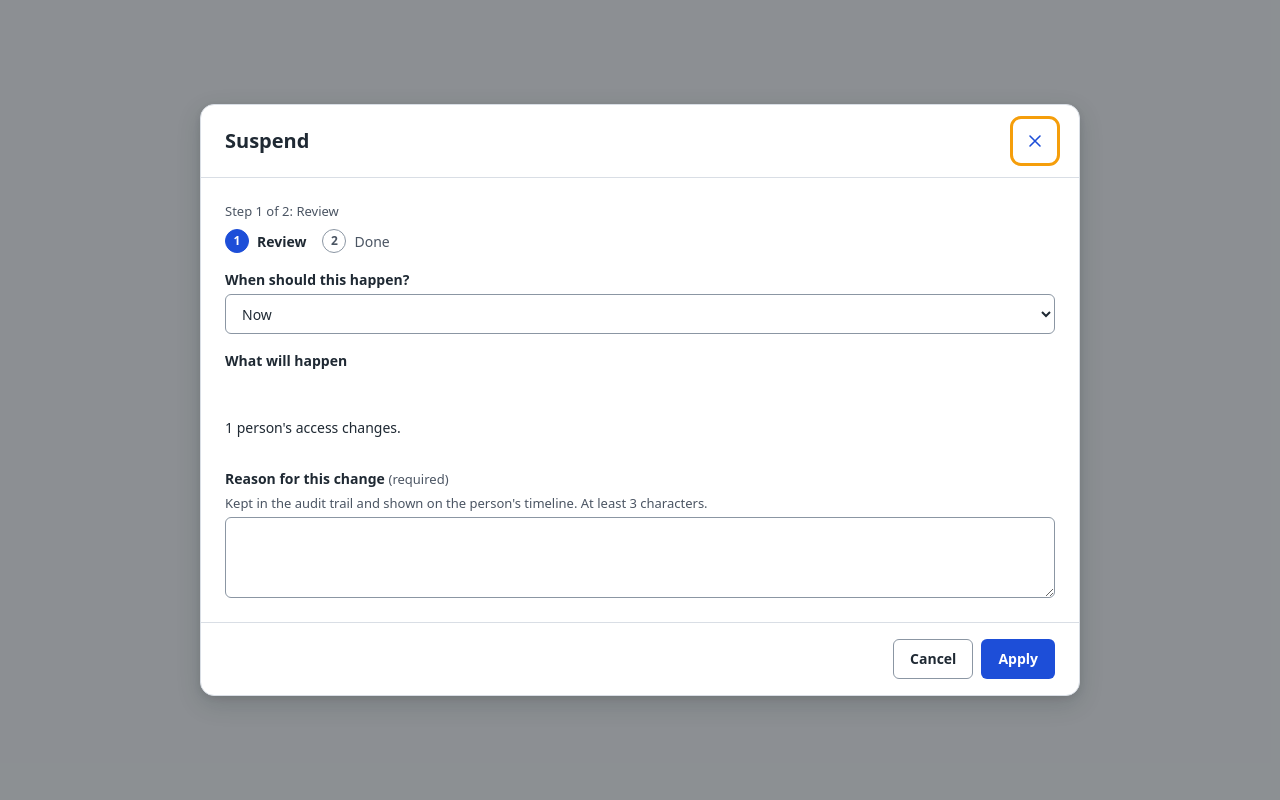
Test: schedules a reviewed change for a later day and says nothing changes until then
Select "At the start of a later day" in the dropdown labelled "When should this happen?" at [640, 314], box [225,294,1055,334]
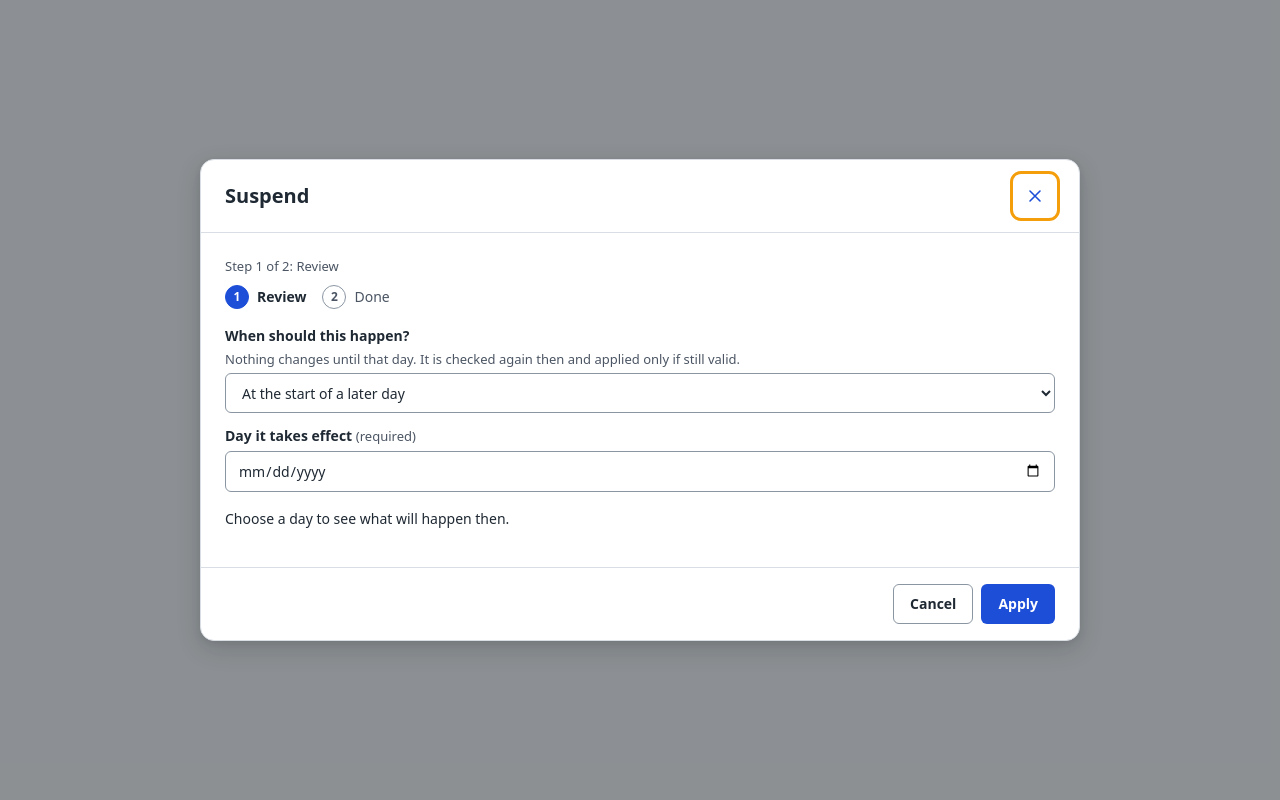
Type "2030-01-07" into the date field labelled "Day it takes effect (required)" at [640, 471], box [225,451,1055,492]
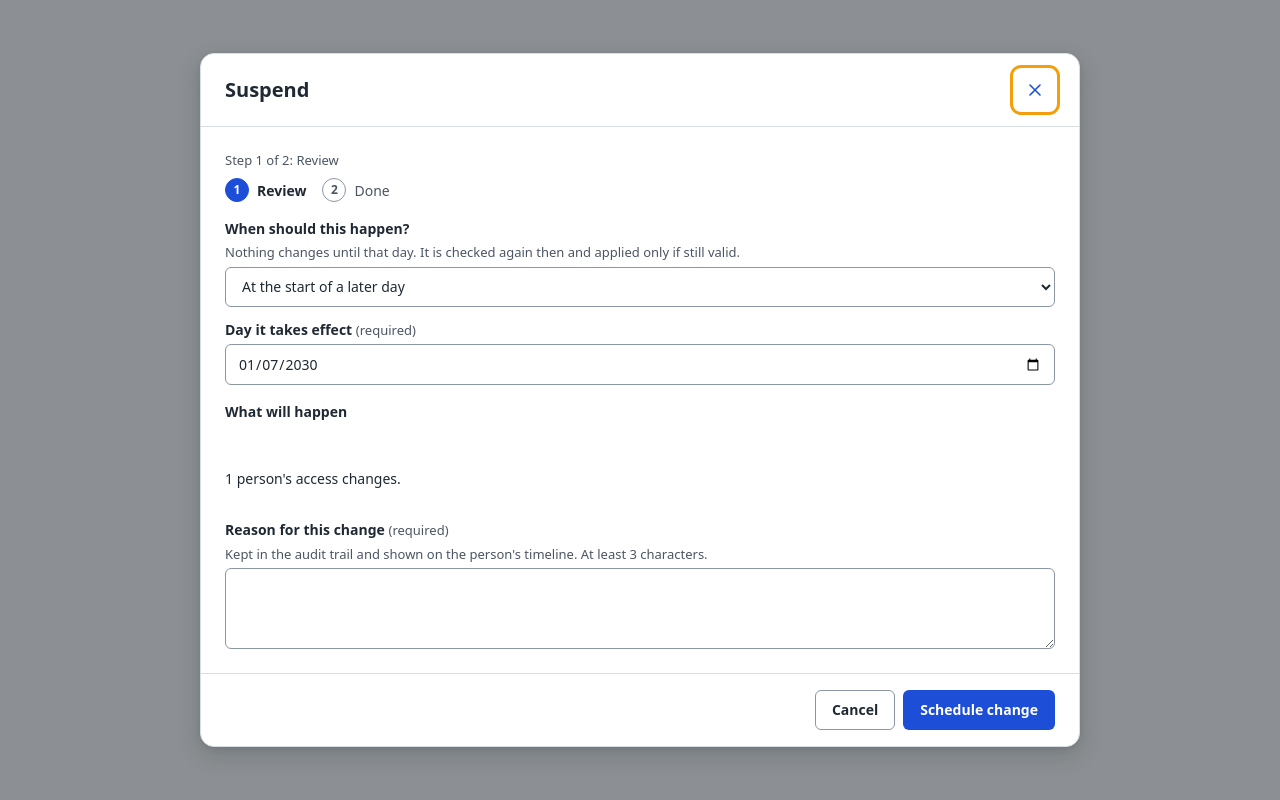
Check: the button "Schedule change" is shown, box [903,690,1055,730]
Type "End of contract" into the text box labelled "Reason for this change (required)" at [640, 609], box [225,568,1055,649]
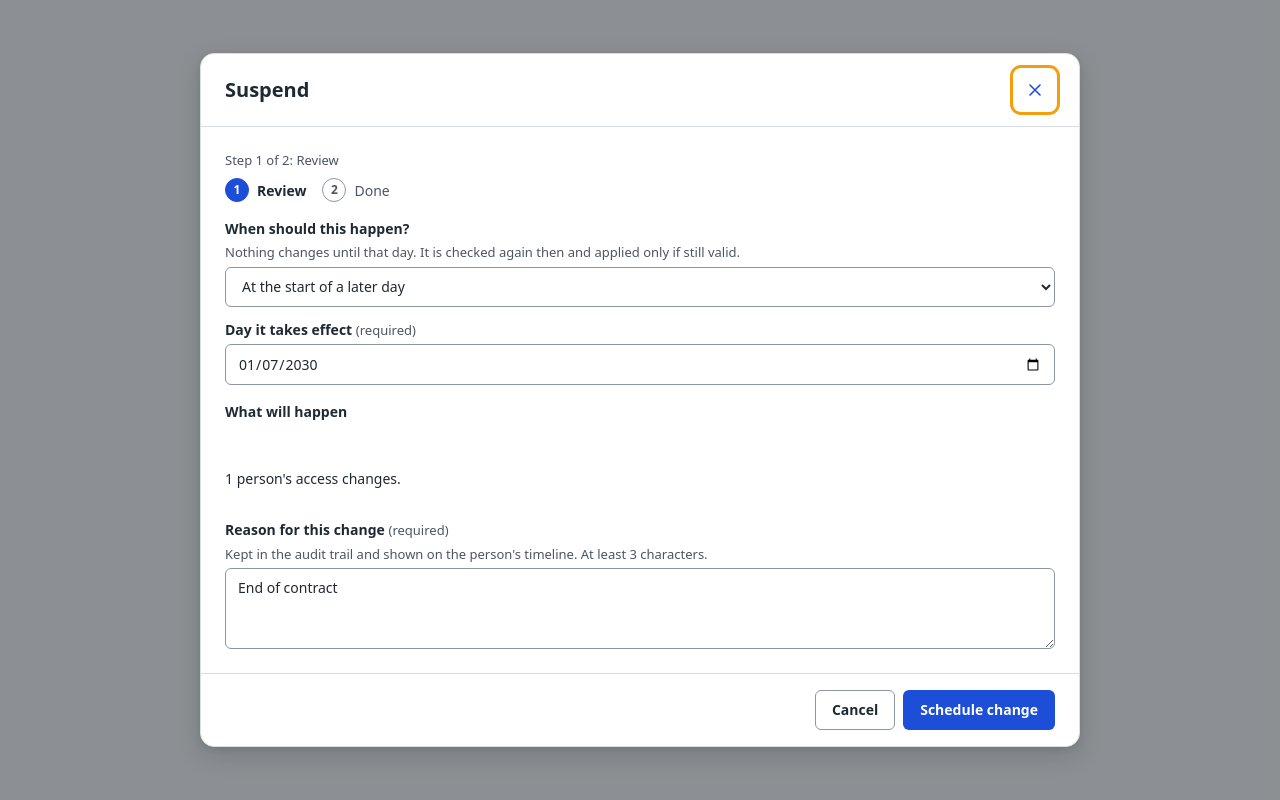
Click the button "Schedule change" at [979, 710], box [903,690,1055,730]
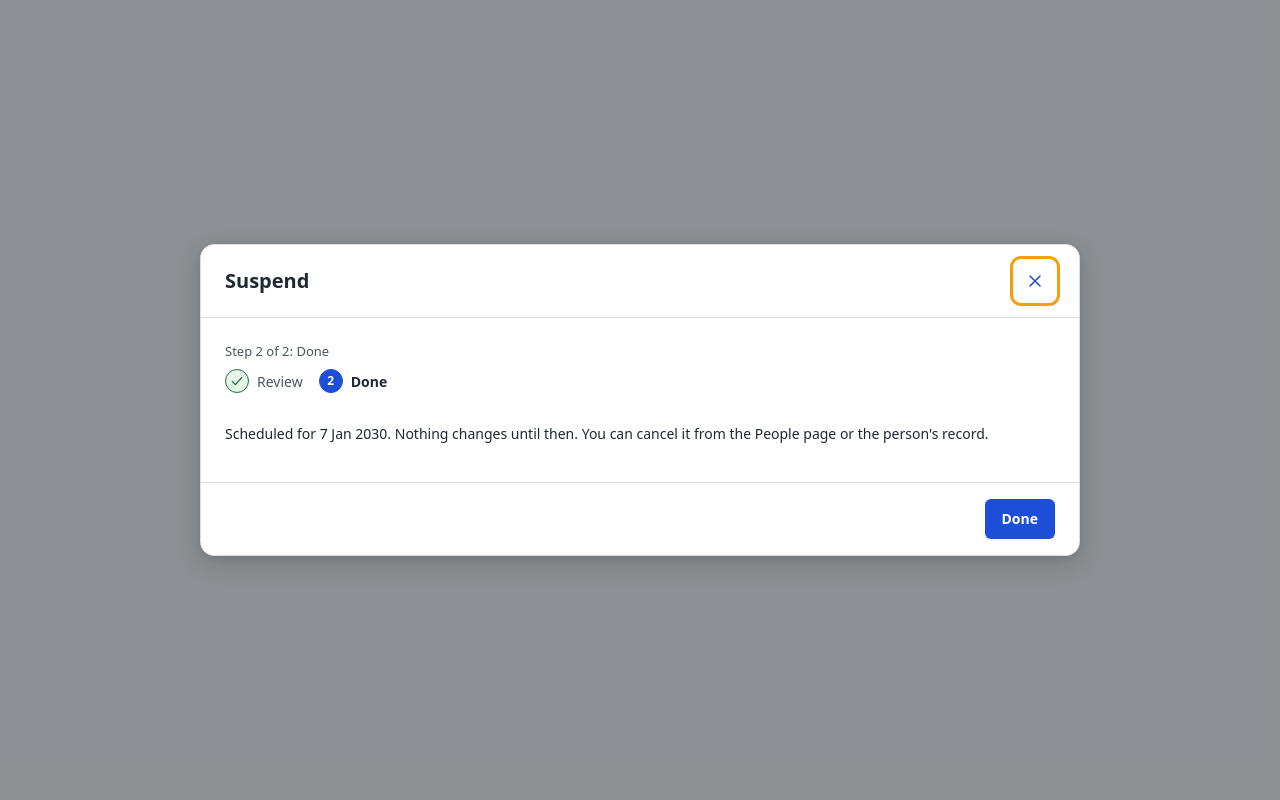
Check: the text "Nothing changes until then" is shown, box [387,424,988,443]
